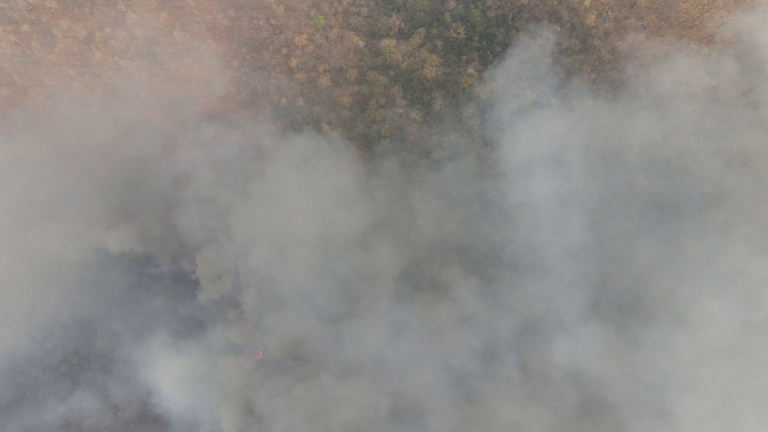fire: (244, 316, 270, 374)
smoke: (20, 57, 768, 432)
